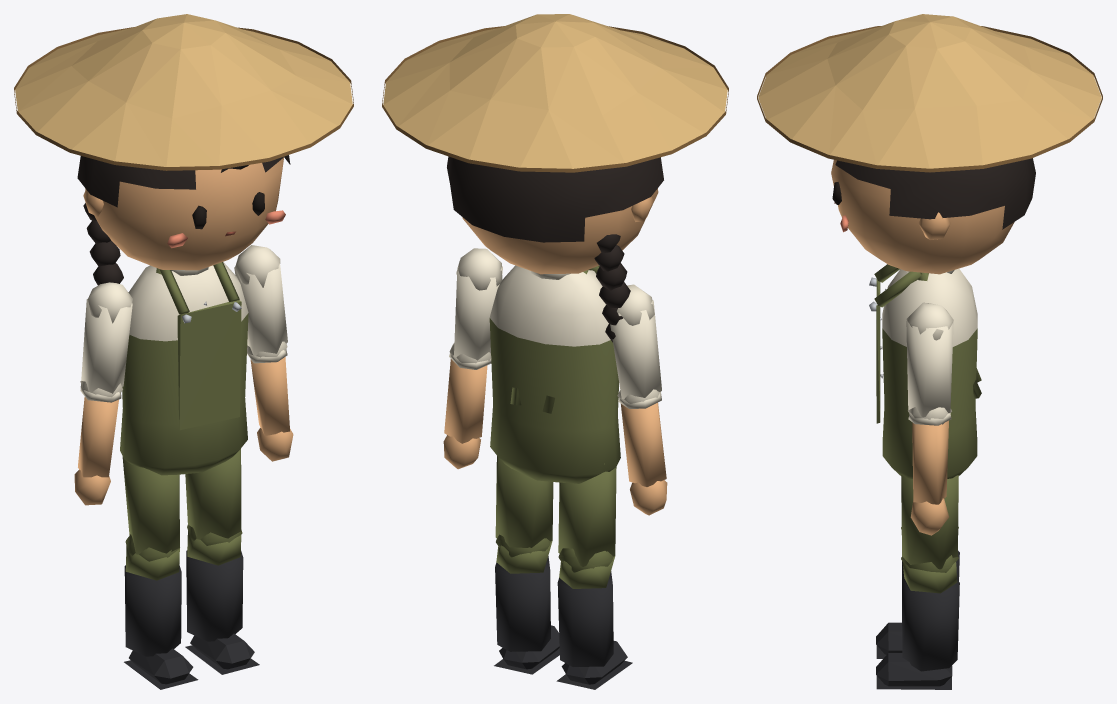
The model's file is era5_robot_farmer.glb.
3 renders of one model, left to right at view 1: azimuth 30°, elevation 25°; view 2: azimuth 150°, elevation 25°; view 3: azimuth 270°, elevation 25°, orthographic. The views are drawn at different scales.
Parts seen in each view (by area): view 1: head, body, shin_R, shin_L, arm_R, leg_R, arm_L, leg_L, forearm_R, forearm_L; view 2: head, body, shin_R, shin_L, leg_R, arm_R, leg_L, arm_L, forearm_R, forearm_L; view 3: head, body, shin_L, arm_L, forearm_L, leg_L, shin_R.
Part boxes in pixels (bbox=[...]): head: bbox=[14, 14, 353, 285]; body: bbox=[120, 262, 248, 475]; shin_R: bbox=[124, 534, 198, 689]; shin_L: bbox=[185, 525, 259, 674]; arm_R: bbox=[80, 282, 132, 397]; leg_R: bbox=[121, 445, 179, 561]; arm_L: bbox=[234, 245, 287, 357]; leg_L: bbox=[185, 449, 242, 545]; forearm_R: bbox=[74, 384, 121, 505]; forearm_L: bbox=[247, 349, 293, 461]; head: bbox=[382, 14, 728, 342]; body: bbox=[489, 265, 620, 483]; shin_R: bbox=[556, 548, 632, 689]; shin_L: bbox=[494, 534, 559, 674]; leg_R: bbox=[558, 463, 616, 569]; arm_R: bbox=[610, 284, 661, 403]; leg_L: bbox=[495, 456, 553, 554]; arm_L: bbox=[449, 248, 502, 363]; forearm_R: bbox=[618, 389, 667, 515]; forearm_L: bbox=[443, 343, 491, 469]; head: bbox=[757, 14, 1102, 274]; body: bbox=[869, 264, 981, 478]; shin_L: bbox=[876, 555, 959, 689]; arm_L: bbox=[906, 302, 953, 419]; forearm_L: bbox=[908, 410, 951, 535]; leg_L: bbox=[901, 475, 958, 572]; shin_R: bbox=[876, 528, 959, 658].
Bounding box in the file's own units: 0.7702 × 1.59 × 0.7702.
